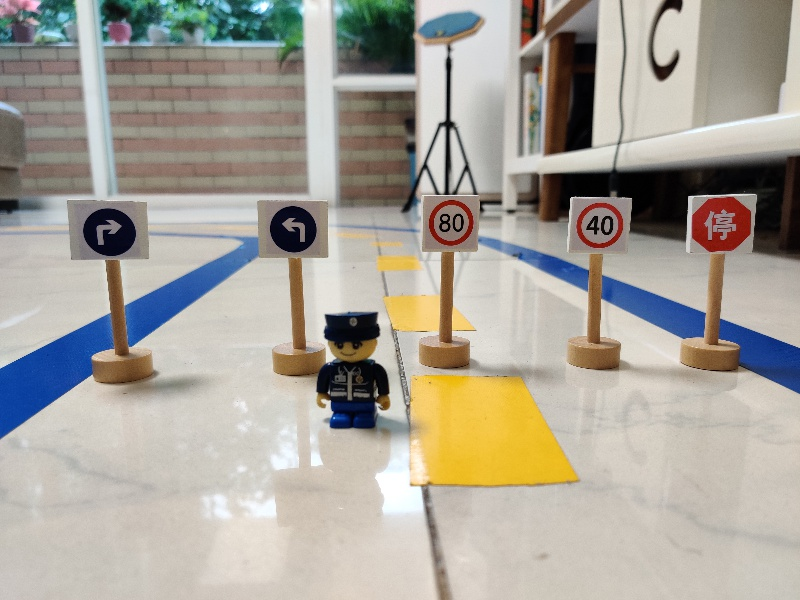limit_40: (564, 193, 634, 256)
limit_80: (419, 195, 481, 254)
person: (313, 308, 394, 437)
stop: (683, 190, 756, 257)
turn_left: (252, 196, 332, 262)
turn_right: (61, 196, 152, 263)
